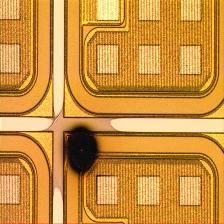PARTICLE: (62, 117, 104, 183)
